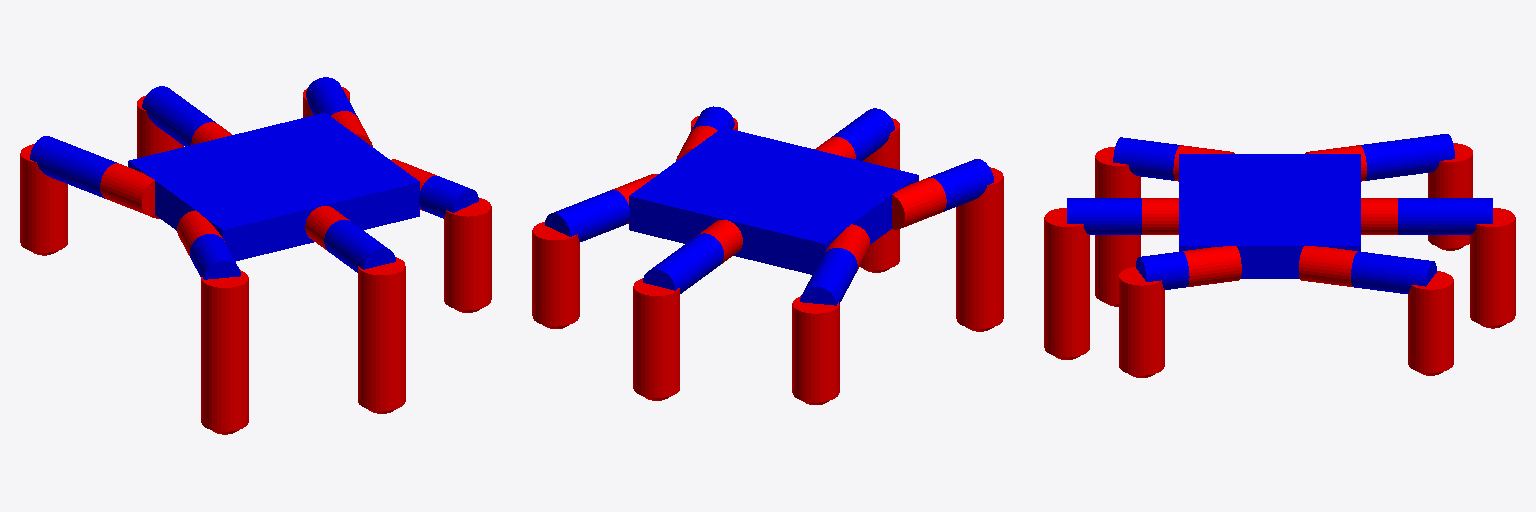
--- What the picture shows (computed from the rendered views, not written in the file) ---
Views: 3 orthographic renders of the robot side by side, from view 1: azimuth 30°, elevation 25°; view 2: azimuth 150°, elevation 25°; view 3: azimuth 270°, elevation 25°.
Robot: pexod — 19 links, 18 joints (18 revolute); root link base_link; default pose: every joint at zero.
Links seen in each view (by area): view 1: base_link, leg_5_3, leg_4_3, leg_3_3, leg_0_3, leg_0_2, leg_1_2, leg_4_2, leg_0_1, leg_3_2, leg_5_2, leg_2_2 (+5 smaller); view 2: base_link, leg_5_3, leg_1_3, leg_0_3, leg_2_3, leg_1_2, leg_2_2, leg_0_2, leg_4_3, leg_5_1, leg_5_2, leg_4_2 (+4 smaller); view 3: base_link, leg_4_3, leg_1_3, leg_3_3, leg_2_3, leg_5_3, leg_1_2, leg_0_2, leg_2_2, leg_4_2, leg_0_3, leg_5_2 (+5 smaller).
Boxes of the visible links, left/top/right/bottom form: base_link: left=128, top=113, right=419, bottom=261; leg_5_3: left=201, top=270, right=248, bottom=434; leg_4_3: left=358, top=257, right=405, bottom=413; leg_3_3: left=444, top=198, right=491, bottom=312; leg_0_3: left=20, top=144, right=67, bottom=255; leg_0_2: left=30, top=136, right=116, bottom=198; leg_1_2: left=142, top=86, right=215, bottom=146; leg_4_2: left=324, top=220, right=395, bottom=272; leg_0_1: left=100, top=163, right=154, bottom=215; leg_3_2: left=419, top=176, right=478, bottom=218; leg_5_2: left=190, top=234, right=240, bottom=279; leg_2_2: left=306, top=77, right=358, bottom=118; base_link: left=629, top=127, right=918, bottom=274; leg_5_3: left=956, top=167, right=1003, bottom=331; leg_1_3: left=633, top=278, right=679, bottom=400; leg_0_3: left=792, top=296, right=839, bottom=404; leg_2_3: left=532, top=222, right=579, bottom=328; leg_1_2: left=643, top=233, right=723, bottom=293; leg_2_2: left=545, top=190, right=629, bottom=241; leg_0_2: left=800, top=248, right=857, bottom=305; leg_4_3: left=860, top=118, right=899, bottom=272; leg_5_1: left=892, top=178, right=946, bottom=229; leg_5_2: left=928, top=159, right=993, bottom=211; leg_4_2: left=831, top=108, right=894, bottom=160; base_link: left=1179, top=154, right=1360, bottom=278; leg_4_3: left=1044, top=208, right=1089, bottom=359; leg_1_3: left=1470, top=208, right=1515, bottom=328; leg_3_3: left=1119, top=267, right=1164, bottom=377; leg_2_3: left=1408, top=271, right=1453, bottom=375; leg_5_3: left=1095, top=147, right=1140, bottom=306; leg_1_2: left=1398, top=198, right=1492, bottom=234; leg_0_2: left=1361, top=134, right=1454, bottom=180; leg_2_2: left=1351, top=251, right=1436, bottom=293; leg_4_2: left=1067, top=198, right=1141, bottom=234; leg_0_3: left=1428, top=143, right=1472, bottom=250; leg_5_2: left=1113, top=137, right=1179, bottom=180.
Bounding box of the posed robot: 0.3806 × 0.5162 × 0.1997 m (x, y, z).
Geometry: primitives only (box / cylinder / sphere), no mesh files.

robot.urdf — pexod:
<?xml version="1.0" ?>
<!-- =================================================================================== -->
<!-- |    This document was autogenerated by xacro from pexod.xacro                    | -->
<!-- |    EDITING THIS FILE BY HAND IS NOT RECOMMENDED                                 | -->
<!-- =================================================================================== -->
<robot name="pexod" xmlns:xacro="http://www.ros.org/wiki/xacro">
  <!-- <xacro:include filename="$(find pexod_description)/urdf/pexod_control.xacro" /> -->
  <!-- MATERIALS -->
  <material name="Blue">
    <color rgba="0 0 1 1"/>
  </material>
  <material name="Red">
    <color rgba="1 0 0 1"/>
  </material>
  <material name="Green">
    <color rgba="0 1 0 1"/>
  </material>
  <material name="Yellow">
    <color rgba="1 1 0 1"/>
  </material>
  <material name="LightGrey">
    <color rgba="0.6 0.6 0.6 1.0"/>
  </material>
  <!-- END OF MATERIALS -->
  <!-- XACRO MACROS FOR VISUALS AND COLLISIONS -->
  <!-- END OF XACRO MACROS -->
  <!-- TORSO -->
  <link name="base_link">
    <visual>
      <origin rpy="0 0 0" xyz="0 0 0"/>
      <geometry>
        <box size="0.24 0.2 0.04"/>
      </geometry>
      <material name="Blue"/>
    </visual>
    <collision>
      <origin rpy="0 0 0" xyz="0 0 0"/>
      <geometry>
        <box size="0.24 0.2 0.04"/>
      </geometry>
    </collision>
    <inertial>
      <!-- CENTER OF MASS -->
      <origin rpy="0 0 0" xyz="0 0 0"/>
      <mass value="1.031"/>
      <!-- box inertia: 1/12*m(y^2+z^2), ... -->
      <inertia ixx="0.00357413333333" ixy="0" ixz="0" iyy="0.00508626666667" iyz="0" izz="0.00838546666667"/>
    </inertial>
  </link>
  <!-- XACRO MACRO FOR LEGS LINKS/JOINTS -->
  <!-- END OF LEG LINKS/JOINTS -->
  <joint name="body_leg_2" type="revolute">
    <parent link="base_link"/>
    <child link="leg_2_1"/>
    <limit effort="30.0" lower="-1.57079632679" upper="1.57079632679" velocity="7.0"/>
    <origin rpy="0 0 -0.3" xyz="0.11 0.04 0"/>
    <!-- <xacro:if value="${index == 5 or index == 4 or index == 3}">
                <axis xyz="0 0 1"/>
            </xacro:if>
            <xacro:if value="${index == 2 or index == 1 or index == 0}"> -->
    <axis xyz="0 0 1"/>
    <!-- </xacro:if> -->
    <dynamics damping="0.0"/>
  </joint>
  <link name="leg_2_1">
    <visual>
      <origin rpy="1.57079632679 0 0" xyz="0.01 0.03 0"/>
      <geometry>
        <cylinder length="0.06" radius="0.02"/>
      </geometry>
      <material name="Red"/>
    </visual>
    <collision>
      <origin rpy="1.57079632679 0 0" xyz="0.01 0.03 0"/>
      <geometry>
        <box size="0.02 0.02 0.06"/>
      </geometry>
    </collision>
    <inertial>
      <!-- CENTER OF MASS -->
      <origin rpy="1.57079632679 0 0" xyz="0.01 0.03 0"/>
      <mass value="0.02"/>
      <!-- box inertia: 1/12*m(y^2+z^2), ... -->
      <inertia ixx="6.66666666667e-06" ixy="0" ixz="0" iyy="6.66666666667e-06" iyz="0" izz="1.33333333333e-06"/>
    </inertial>
  </link>
  <joint name="leg_2_1_2" type="revolute">
    <parent link="leg_2_1"/>
    <child link="leg_2_2"/>
    <limit effort="30.0" lower="-0.78539816339" upper="0.78539816339" velocity="7.0"/>
    <origin rpy="0 0 0" xyz="0 0.06 0"/>
    <axis xyz="1 0 0"/>
    <dynamics damping="0.0"/>
  </joint>
  <link name="leg_2_2">
    <visual>
      <origin rpy="1.57079632679 0 0" xyz="0.01 0.0431650042845 0"/>
      <geometry>
        <cylinder length="0.086330008569" radius="0.02"/>
      </geometry>
      <material name="Blue"/>
    </visual>
    <collision>
      <origin rpy="1.57079632679 0 0" xyz="0.01 0.0431650042845 0"/>
      <geometry>
        <box size="0.02 0.02 0.086330008569"/>
      </geometry>
    </collision>
    <inertial>
      <!-- CENTER OF MASS -->
      <origin rpy="1.57079632679 0 0" xyz="0.01 0.0431650042845 0"/>
      <mass value="0.184"/>
      <!-- box inertia: 1/12*m(y^2+z^2), ... -->
      <inertia ixx="0.000120410679153" ixy="0" ixz="0" iyy="0.000120410679153" iyz="0" izz="1.22666666667e-05"/>
    </inertial>
  </link>
  <joint name="leg_2_2_3" type="revolute">
    <parent link="leg_2_2"/>
    <child link="leg_2_3"/>
    <limit effort="30.0" lower="-0.78539816339" upper="0.78539816339" velocity="7.0"/>
    <origin rpy="-1.57079632679 0 0" xyz="0 0.086330008569 0"/>
    <axis xyz="-1 0 0"/>
    <dynamics damping="0.0"/>
  </joint>
  <link name="leg_2_3">
    <visual>
      <origin rpy="1.57079632679 0 0" xyz="0.0125 0.0504329988915 0"/>
      <geometry>
        <cylinder length="0.100865997783" radius="0.025"/>
      </geometry>
      <material name="Red"/>
    </visual>
    <visual>
      <origin rpy="1.57079632679 0 0" xyz="0.0125 0.088365997783 0"/>
      <geometry>
        <sphere radius="0.025"/>
      </geometry>
      <material name="Red"/>
    </visual>
    <collision>
      <origin rpy="1.57079632679 0 0" xyz="0.0125 0.0504329988915 0"/>
      <geometry>
        <box size="0.025 0.025 0.100865997783"/>
      </geometry>
    </collision>
    <collision>
      <origin rpy="1.57079632679 0 0" xyz="0.0125 0.088365997783 0"/>
      <geometry>
        <sphere radius="0.025"/>
      </geometry>
      <material name="Red"/>
    </collision>
    <inertial>
      <!-- CENTER OF MASS -->
      <origin rpy="1.57079632679 0 0" xyz="0.0125 0.0504329988915 0"/>
      <mass value="0.04"/>
      <!-- box inertia: 1/12*m(y^2+z^2), ... -->
      <inertia ixx="3.59964983625e-05" ixy="0" ixz="0" iyy="3.59964983625e-05" iyz="0" izz="4.16666666667e-06"/>
    </inertial>
  </link>
  <joint name="body_leg_3" type="revolute">
    <parent link="base_link"/>
    <child link="leg_3_1"/>
    <limit effort="30.0" lower="-1.57079632679" upper="1.57079632679" velocity="7.0"/>
    <origin rpy="0 0 0.3" xyz="0.11 -0.04 0"/>
    <!-- <xacro:if value="${index == 5 or index == 4 or index == 3}">
                <axis xyz="0 0 1"/>
            </xacro:if>
            <xacro:if value="${index == 2 or index == 1 or index == 0}"> -->
    <axis xyz="0 0 1"/>
    <!-- </xacro:if> -->
    <dynamics damping="0.0"/>
  </joint>
  <link name="leg_3_1">
    <visual>
      <origin rpy="1.57079632679 0 0" xyz="0.01 -0.03 0"/>
      <geometry>
        <cylinder length="0.06" radius="0.02"/>
      </geometry>
      <material name="Red"/>
    </visual>
    <collision>
      <origin rpy="1.57079632679 0 0" xyz="0.01 -0.03 0"/>
      <geometry>
        <box size="0.02 0.02 0.06"/>
      </geometry>
    </collision>
    <inertial>
      <!-- CENTER OF MASS -->
      <origin rpy="1.57079632679 0 0" xyz="0.01 -0.03 0"/>
      <mass value="0.02"/>
      <!-- box inertia: 1/12*m(y^2+z^2), ... -->
      <inertia ixx="6.66666666667e-06" ixy="0" ixz="0" iyy="6.66666666667e-06" iyz="0" izz="1.33333333333e-06"/>
    </inertial>
  </link>
  <joint name="leg_3_1_2" type="revolute">
    <parent link="leg_3_1"/>
    <child link="leg_3_2"/>
    <limit effort="30.0" lower="-0.78539816339" upper="0.78539816339" velocity="7.0"/>
    <origin rpy="0 0 0" xyz="0 -0.06 0"/>
    <axis xyz="-1 0 0"/>
    <dynamics damping="0.0"/>
  </joint>
  <link name="leg_3_2">
    <visual>
      <origin rpy="1.57079632679 0 0" xyz="0.01 -0.024612013771 0"/>
      <geometry>
        <cylinder length="0.049224027542" radius="0.02"/>
      </geometry>
      <material name="Blue"/>
    </visual>
    <collision>
      <origin rpy="1.57079632679 0 0" xyz="0.01 -0.024612013771 0"/>
      <geometry>
        <box size="0.02 0.02 0.049224027542"/>
      </geometry>
    </collision>
    <inertial>
      <!-- CENTER OF MASS -->
      <origin rpy="1.57079632679 0 0" xyz="0.01 -0.024612013771 0"/>
      <mass value="0.184"/>
      <!-- box inertia: 1/12*m(y^2+z^2), ... -->
      <inertia ixx="4.3286074941e-05" ixy="0" ixz="0" iyy="4.3286074941e-05" iyz="0" izz="1.22666666667e-05"/>
    </inertial>
  </link>
  <joint name="leg_3_2_3" type="revolute">
    <parent link="leg_3_2"/>
    <child link="leg_3_3"/>
    <limit effort="30.0" lower="-0.78539816339" upper="0.78539816339" velocity="7.0"/>
    <origin rpy="1.57079632679 0 0" xyz="0 -0.049224027542 0"/>
    <axis xyz="1 0 0"/>
    <dynamics damping="0.0"/>
  </joint>
  <link name="leg_3_3">
    <visual>
      <origin rpy="1.57079632679 0 0" xyz="0.0125 -0.0544681876815 0"/>
      <geometry>
        <cylinder length="0.108936375363" radius="0.025"/>
      </geometry>
      <material name="Red"/>
    </visual>
    <visual>
      <origin rpy="1.57079632679 0 0" xyz="0.0125 -0.096436375363 0"/>
      <geometry>
        <sphere radius="0.025"/>
      </geometry>
      <material name="Red"/>
    </visual>
    <collision>
      <origin rpy="1.57079632679 0 0" xyz="0.0125 -0.0544681876815 0"/>
      <geometry>
        <box size="0.025 0.025 0.108936375363"/>
      </geometry>
    </collision>
    <collision>
      <origin rpy="1.57079632679 0 0" xyz="0.0125 -0.096436375363 0"/>
      <geometry>
        <sphere radius="0.025"/>
      </geometry>
      <material name="Red"/>
    </collision>
    <inertial>
      <!-- CENTER OF MASS -->
      <origin rpy="1.57079632679 0 0" xyz="0.0125 -0.0544681876815 0"/>
      <mass value="0.04"/>
      <!-- box inertia: 1/12*m(y^2+z^2), ... -->
      <inertia ixx="4.16404462574e-05" ixy="0" ixz="0" iyy="4.16404462574e-05" iyz="0" izz="4.16666666667e-06"/>
    </inertial>
  </link>
  <joint name="body_leg_0" type="revolute">
    <parent link="base_link"/>
    <child link="leg_0_1"/>
    <limit effort="30.0" lower="-1.57079632679" upper="1.57079632679" velocity="7.0"/>
    <origin rpy="0 0 0.3" xyz="-0.13 0.04 0"/>
    <!-- <xacro:if value="${index == 5 or index == 4 or index == 3}">
                <axis xyz="0 0 1"/>
            </xacro:if>
            <xacro:if value="${index == 2 or index == 1 or index == 0}"> -->
    <axis xyz="0 0 1"/>
    <!-- </xacro:if> -->
    <dynamics damping="0.0"/>
  </joint>
  <link name="leg_0_1">
    <visual>
      <origin rpy="1.57079632679 0 0" xyz="0.01 0.03 0"/>
      <geometry>
        <cylinder length="0.06" radius="0.02"/>
      </geometry>
      <material name="Red"/>
    </visual>
    <collision>
      <origin rpy="1.57079632679 0 0" xyz="0.01 0.03 0"/>
      <geometry>
        <box size="0.02 0.02 0.06"/>
      </geometry>
    </collision>
    <inertial>
      <!-- CENTER OF MASS -->
      <origin rpy="1.57079632679 0 0" xyz="0.01 0.03 0"/>
      <mass value="0.02"/>
      <!-- box inertia: 1/12*m(y^2+z^2), ... -->
      <inertia ixx="6.66666666667e-06" ixy="0" ixz="0" iyy="6.66666666667e-06" iyz="0" izz="1.33333333333e-06"/>
    </inertial>
  </link>
  <joint name="leg_0_1_2" type="revolute">
    <parent link="leg_0_1"/>
    <child link="leg_0_2"/>
    <limit effort="30.0" lower="-0.78539816339" upper="0.78539816339" velocity="7.0"/>
    <origin rpy="0 0 0" xyz="0 0.06 0"/>
    <axis xyz="1 0 0"/>
    <dynamics damping="0.0"/>
  </joint>
  <link name="leg_0_2">
    <visual>
      <origin rpy="1.57079632679 0 0" xyz="0.01 0.0505119179845 0"/>
      <geometry>
        <cylinder length="0.101023835969" radius="0.02"/>
      </geometry>
      <material name="Blue"/>
    </visual>
    <collision>
      <origin rpy="1.57079632679 0 0" xyz="0.01 0.0505119179845 0"/>
      <geometry>
        <box size="0.02 0.02 0.101023835969"/>
      </geometry>
    </collision>
    <inertial>
      <!-- CENTER OF MASS -->
      <origin rpy="1.57079632679 0 0" xyz="0.01 0.0505119179845 0"/>
      <mass value="0.184"/>
      <!-- box inertia: 1/12*m(y^2+z^2), ... -->
      <inertia ixx="0.00016262250332" ixy="0" ixz="0" iyy="0.00016262250332" iyz="0" izz="1.22666666667e-05"/>
    </inertial>
  </link>
  <joint name="leg_0_2_3" type="revolute">
    <parent link="leg_0_2"/>
    <child link="leg_0_3"/>
    <limit effort="30.0" lower="-0.78539816339" upper="0.78539816339" velocity="7.0"/>
    <origin rpy="-1.57079632679 0 0" xyz="0 0.101023835969 0"/>
    <axis xyz="-1 0 0"/>
    <dynamics damping="0.0"/>
  </joint>
  <link name="leg_0_3">
    <visual>
      <origin rpy="1.57079632679 0 0" xyz="0.0125 0.052036531182 0"/>
      <geometry>
        <cylinder length="0.104073062364" radius="0.025"/>
      </geometry>
      <material name="Red"/>
    </visual>
    <visual>
      <origin rpy="1.57079632679 0 0" xyz="0.0125 0.091573062364 0"/>
      <geometry>
        <sphere radius="0.025"/>
      </geometry>
      <material name="Red"/>
    </visual>
    <collision>
      <origin rpy="1.57079632679 0 0" xyz="0.0125 0.052036531182 0"/>
      <geometry>
        <box size="0.025 0.025 0.104073062364"/>
      </geometry>
    </collision>
    <collision>
      <origin rpy="1.57079632679 0 0" xyz="0.0125 0.091573062364 0"/>
      <geometry>
        <sphere radius="0.025"/>
      </geometry>
      <material name="Red"/>
    </collision>
    <inertial>
      <!-- CENTER OF MASS -->
      <origin rpy="1.57079632679 0 0" xyz="0.0125 0.052036531182 0"/>
      <mass value="0.04"/>
      <!-- box inertia: 1/12*m(y^2+z^2), ... -->
      <inertia ixx="3.81873410327e-05" ixy="0" ixz="0" iyy="3.81873410327e-05" iyz="0" izz="4.16666666667e-06"/>
    </inertial>
  </link>
  <joint name="body_leg_5" type="revolute">
    <parent link="base_link"/>
    <child link="leg_5_1"/>
    <limit effort="30.0" lower="-1.57079632679" upper="1.57079632679" velocity="7.0"/>
    <origin rpy="0 0 -0.3" xyz="-0.13 -0.04 0"/>
    <!-- <xacro:if value="${index == 5 or index == 4 or index == 3}">
                <axis xyz="0 0 1"/>
            </xacro:if>
            <xacro:if value="${index == 2 or index == 1 or index == 0}"> -->
    <axis xyz="0 0 1"/>
    <!-- </xacro:if> -->
    <dynamics damping="0.0"/>
  </joint>
  <link name="leg_5_1">
    <visual>
      <origin rpy="1.57079632679 0 0" xyz="0.01 -0.03 0"/>
      <geometry>
        <cylinder length="0.06" radius="0.02"/>
      </geometry>
      <material name="Red"/>
    </visual>
    <collision>
      <origin rpy="1.57079632679 0 0" xyz="0.01 -0.03 0"/>
      <geometry>
        <box size="0.02 0.02 0.06"/>
      </geometry>
    </collision>
    <inertial>
      <!-- CENTER OF MASS -->
      <origin rpy="1.57079632679 0 0" xyz="0.01 -0.03 0"/>
      <mass value="0.02"/>
      <!-- box inertia: 1/12*m(y^2+z^2), ... -->
      <inertia ixx="6.66666666667e-06" ixy="0" ixz="0" iyy="6.66666666667e-06" iyz="0" izz="1.33333333333e-06"/>
    </inertial>
  </link>
  <joint name="leg_5_1_2" type="revolute">
    <parent link="leg_5_1"/>
    <child link="leg_5_2"/>
    <limit effort="30.0" lower="-0.78539816339" upper="0.78539816339" velocity="7.0"/>
    <origin rpy="0 0 0" xyz="0 -0.06 0"/>
    <axis xyz="-1 0 0"/>
    <dynamics damping="0.0"/>
  </joint>
  <link name="leg_5_2">
    <visual>
      <origin rpy="1.57079632679 0 0" xyz="0.01 -0.0344814119641 0"/>
      <geometry>
        <cylinder length="0.0689628239281" radius="0.02"/>
      </geometry>
      <material name="Blue"/>
    </visual>
    <collision>
      <origin rpy="1.57079632679 0 0" xyz="0.01 -0.0344814119641 0"/>
      <geometry>
        <box size="0.02 0.02 0.0689628239281"/>
      </geometry>
    </collision>
    <inertial>
      <!-- CENTER OF MASS -->
      <origin rpy="1.57079632679 0 0" xyz="0.01 -0.0344814119641 0"/>
      <mass value="0.184"/>
      <!-- box inertia: 1/12*m(y^2+z^2), ... -->
      <inertia ixx="7.90566899568e-05" ixy="0" ixz="0" iyy="7.90566899568e-05" iyz="0" izz="1.22666666667e-05"/>
    </inertial>
  </link>
  <joint name="leg_5_2_3" type="revolute">
    <parent link="leg_5_2"/>
    <child link="leg_5_3"/>
    <limit effort="30.0" lower="-0.78539816339" upper="0.78539816339" velocity="7.0"/>
    <origin rpy="1.57079632679 0 0" xyz="0 -0.0689628239281 0"/>
    <axis xyz="1 0 0"/>
    <dynamics damping="0.0"/>
  </joint>
  <link name="leg_5_3">
    <visual>
      <origin rpy="1.57079632679 0 0" xyz="0.0125 -0.083614740755 0"/>
      <geometry>
        <cylinder length="0.16722948151" radius="0.025"/>
      </geometry>
      <material name="Red"/>
    </visual>
    <visual>
      <origin rpy="1.57079632679 0 0" xyz="0.0125 -0.15472948151 0"/>
      <geometry>
        <sphere radius="0.025"/>
      </geometry>
      <material name="Red"/>
    </visual>
    <collision>
      <origin rpy="1.57079632679 0 0" xyz="0.0125 -0.083614740755 0"/>
      <geometry>
        <box size="0.025 0.025 0.16722948151"/>
      </geometry>
    </collision>
    <collision>
      <origin rpy="1.57079632679 0 0" xyz="0.0125 -0.15472948151 0"/>
      <geometry>
        <sphere radius="0.025"/>
      </geometry>
      <material name="Red"/>
    </collision>
    <inertial>
      <!-- CENTER OF MASS -->
      <origin rpy="1.57079632679 0 0" xyz="0.0125 -0.083614740755 0"/>
      <mass value="0.04"/>
      <!-- box inertia: 1/12*m(y^2+z^2), ... -->
      <inertia ixx="9.53023316203e-05" ixy="0" ixz="0" iyy="9.53023316203e-05" iyz="0" izz="4.16666666667e-06"/>
    </inertial>
  </link>
  <joint name="body_leg_1" type="revolute">
    <parent link="base_link"/>
    <child link="leg_1_1"/>
    <limit effort="30.0" lower="-1.57079632679" upper="1.57079632679" velocity="7.0"/>
    <origin rpy="0 0 0" xyz="-0.01 0.08 0"/>
    <!-- <xacro:if value="${index == 5 or index == 4 or index == 3}">
                <axis xyz="0 0 1"/>
            </xacro:if>
            <xacro:if value="${index == 2 or index == 1 or index == 0}"> -->
    <axis xyz="0 0 1"/>
    <!-- </xacro:if> -->
    <dynamics damping="0.0"/>
  </joint>
  <link name="leg_1_1">
    <visual>
      <origin rpy="1.57079632679 0 0" xyz="0.01 0.03 0"/>
      <geometry>
        <cylinder length="0.06" radius="0.02"/>
      </geometry>
      <material name="Red"/>
    </visual>
    <collision>
      <origin rpy="1.57079632679 0 0" xyz="0.01 0.03 0"/>
      <geometry>
        <box size="0.02 0.02 0.06"/>
      </geometry>
    </collision>
    <inertial>
      <!-- CENTER OF MASS -->
      <origin rpy="1.57079632679 0 0" xyz="0.01 0.03 0"/>
      <mass value="0.02"/>
      <!-- box inertia: 1/12*m(y^2+z^2), ... -->
      <inertia ixx="6.66666666667e-06" ixy="0" ixz="0" iyy="6.66666666667e-06" iyz="0" izz="1.33333333333e-06"/>
    </inertial>
  </link>
  <joint name="leg_1_1_2" type="revolute">
    <parent link="leg_1_1"/>
    <child link="leg_1_2"/>
    <limit effort="30.0" lower="-0.78539816339" upper="0.78539816339" velocity="7.0"/>
    <origin rpy="0 0 0" xyz="0 0.06 0"/>
    <axis xyz="1 0 0"/>
    <dynamics damping="0.0"/>
  </joint>
  <link name="leg_1_2">
    <visual>
      <origin rpy="1.57079632679 0 0" xyz="0.01 0.0518967547765 0"/>
      <geometry>
        <cylinder length="0.103793509553" radius="0.02"/>
      </geometry>
      <material name="Blue"/>
    </visual>
    <collision>
      <origin rpy="1.57079632679 0 0" xyz="0.01 0.0518967547765 0"/>
      <geometry>
        <box size="0.02 0.02 0.103793509553"/>
      </geometry>
    </collision>
    <inertial>
      <!-- CENTER OF MASS -->
      <origin rpy="1.57079632679 0 0" xyz="0.01 0.0518967547765 0"/>
      <mass value="0.184"/>
      <!-- box inertia: 1/12*m(y^2+z^2), ... -->
      <inertia ixx="0.000171320753588" ixy="0" ixz="0" iyy="0.000171320753588" iyz="0" izz="1.22666666667e-05"/>
    </inertial>
  </link>
  <joint name="leg_1_2_3" type="revolute">
    <parent link="leg_1_2"/>
    <child link="leg_1_3"/>
    <limit effort="30.0" lower="-0.78539816339" upper="0.78539816339" velocity="7.0"/>
    <origin rpy="-1.57079632679 0 0" xyz="0 0.103793509553 0"/>
    <axis xyz="-1 0 0"/>
    <dynamics damping="0.0"/>
  </joint>
  <link name="leg_1_3">
    <visual>
      <origin rpy="1.57079632679 0 0" xyz="0.0125 0.05970940172 0"/>
      <geometry>
        <cylinder length="0.11941880344" radius="0.025"/>
      </geometry>
      <material name="Red"/>
    </visual>
    <visual>
      <origin rpy="1.57079632679 0 0" xyz="0.0125 0.10691880344 0"/>
      <geometry>
        <sphere radius="0.025"/>
      </geometry>
      <material name="Red"/>
    </visual>
    <collision>
      <origin rpy="1.57079632679 0 0" xyz="0.0125 0.05970940172 0"/>
      <geometry>
        <box size="0.025 0.025 0.11941880344"/>
      </geometry>
    </collision>
    <collision>
      <origin rpy="1.57079632679 0 0" xyz="0.0125 0.10691880344 0"/>
      <geometry>
        <sphere radius="0.025"/>
      </geometry>
      <material name="Red"/>
    </collision>
    <inertial>
      <!-- CENTER OF MASS -->
      <origin rpy="1.57079632679 0 0" xyz="0.0125 0.05970940172 0"/>
      <mass value="0.04"/>
      <!-- box inertia: 1/12*m(y^2+z^2), ... -->
      <inertia ixx="4.96195020501e-05" ixy="0" ixz="0" iyy="4.96195020501e-05" iyz="0" izz="4.16666666667e-06"/>
    </inertial>
  </link>
  <joint name="body_leg_4" type="revolute">
    <parent link="base_link"/>
    <child link="leg_4_1"/>
    <limit effort="30.0" lower="-1.57079632679" upper="1.57079632679" velocity="7.0"/>
    <origin rpy="0 0 0" xyz="-0.01 -0.08 0"/>
    <!-- <xacro:if value="${index == 5 or index == 4 or index == 3}">
                <axis xyz="0 0 1"/>
            </xacro:if>
            <xacro:if value="${index == 2 or index == 1 or index == 0}"> -->
    <axis xyz="0 0 1"/>
    <!-- </xacro:if> -->
    <dynamics damping="0.0"/>
  </joint>
  <link name="leg_4_1">
    <visual>
      <origin rpy="1.57079632679 0 0" xyz="0.01 -0.03 0"/>
      <geometry>
        <cylinder length="0.06" radius="0.02"/>
      </geometry>
      <material name="Red"/>
    </visual>
    <collision>
      <origin rpy="1.57079632679 0 0" xyz="0.01 -0.03 0"/>
      <geometry>
        <box size="0.02 0.02 0.06"/>
      </geometry>
    </collision>
    <inertial>
      <!-- CENTER OF MASS -->
      <origin rpy="1.57079632679 0 0" xyz="0.01 -0.03 0"/>
      <mass value="0.02"/>
      <!-- box inertia: 1/12*m(y^2+z^2), ... -->
      <inertia ixx="6.66666666667e-06" ixy="0" ixz="0" iyy="6.66666666667e-06" iyz="0" izz="1.33333333333e-06"/>
    </inertial>
  </link>
  <joint name="leg_4_1_2" type="revolute">
    <parent link="leg_4_1"/>
    <child link="leg_4_2"/>
    <limit effort="30.0" lower="-0.78539816339" upper="0.78539816339" velocity="7.0"/>
    <origin rpy="0 0 0" xyz="0 -0.06 0"/>
    <axis xyz="-1 0 0"/>
    <dynamics damping="0.0"/>
  </joint>
  <link name="leg_4_2">
    <visual>
      <origin rpy="1.57079632679 0 0" xyz="0.01 -0.041207030484 0"/>
      <geometry>
        <cylinder length="0.082414060968" radius="0.02"/>
      </geometry>
      <material name="Blue"/>
    </visual>
    <collision>
      <origin rpy="1.57079632679 0 0" xyz="0.01 -0.041207030484 0"/>
      <geometry>
        <box size="0.02 0.02 0.082414060968"/>
      </geometry>
    </collision>
    <inertial>
      <!-- CENTER OF MASS -->
      <origin rpy="1.57079632679 0 0" xyz="0.01 -0.041207030484 0"/>
      <mass value="0.184"/>
      <!-- box inertia: 1/12*m(y^2+z^2), ... -->
      <inertia ixx="0.000110278520827" ixy="0" ixz="0" iyy="0.000110278520827" iyz="0" izz="1.22666666667e-05"/>
    </inertial>
  </link>
  <joint name="leg_4_2_3" type="revolute">
    <parent link="leg_4_2"/>
    <child link="leg_4_3"/>
    <limit effort="30.0" lower="-0.78539816339" upper="0.78539816339" velocity="7.0"/>
    <origin rpy="1.57079632679 0 0" xyz="0 -0.082414060968 0"/>
    <axis xyz="1 0 0"/>
    <dynamics damping="0.0"/>
  </joint>
  <link name="leg_4_3">
    <visual>
      <origin rpy="1.57079632679 0 0" xyz="0.0125 -0.078908016755 0"/>
      <geometry>
        <cylinder length="0.15781603351" radius="0.025"/>
      </geometry>
      <material name="Red"/>
    </visual>
    <visual>
      <origin rpy="1.57079632679 0 0" xyz="0.0125 -0.14531603351 0"/>
      <geometry>
        <sphere radius="0.025"/>
      </geometry>
      <material name="Red"/>
    </visual>
    <collision>
      <origin rpy="1.57079632679 0 0" xyz="0.0125 -0.078908016755 0"/>
      <geometry>
        <box size="0.025 0.025 0.15781603351"/>
      </geometry>
    </collision>
    <collision>
      <origin rpy="1.57079632679 0 0" xyz="0.0125 -0.14531603351 0"/>
      <geometry>
        <sphere radius="0.025"/>
      </geometry>
      <material name="Red"/>
    </collision>
    <inertial>
      <!-- CENTER OF MASS -->
      <origin rpy="1.57079632679 0 0" xyz="0.0125 -0.078908016755 0"/>
      <mass value="0.04"/>
      <!-- box inertia: 1/12*m(y^2+z^2), ... -->
      <inertia ixx="8.51030014428e-05" ixy="0" ixz="0" iyy="8.51030014428e-05" iyz="0" izz="4.16666666667e-06"/>
    </inertial>
  </link>
  <!-- END OF LEG LINKS/JOINTS -->
</robot>
